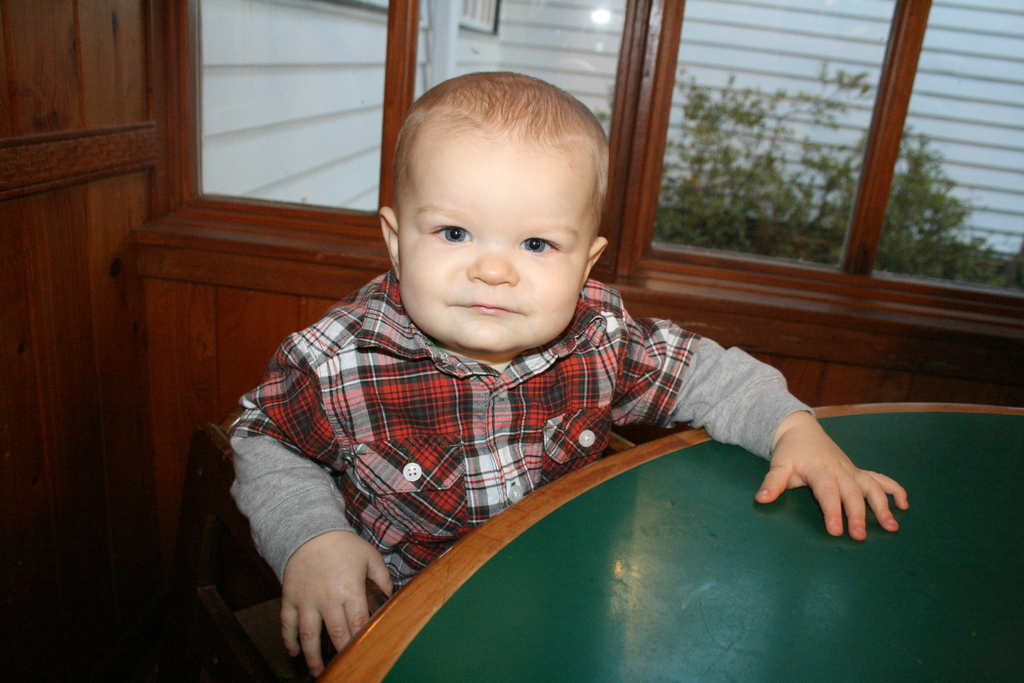Human_hand: (753, 423, 909, 543), (281, 533, 397, 682)
